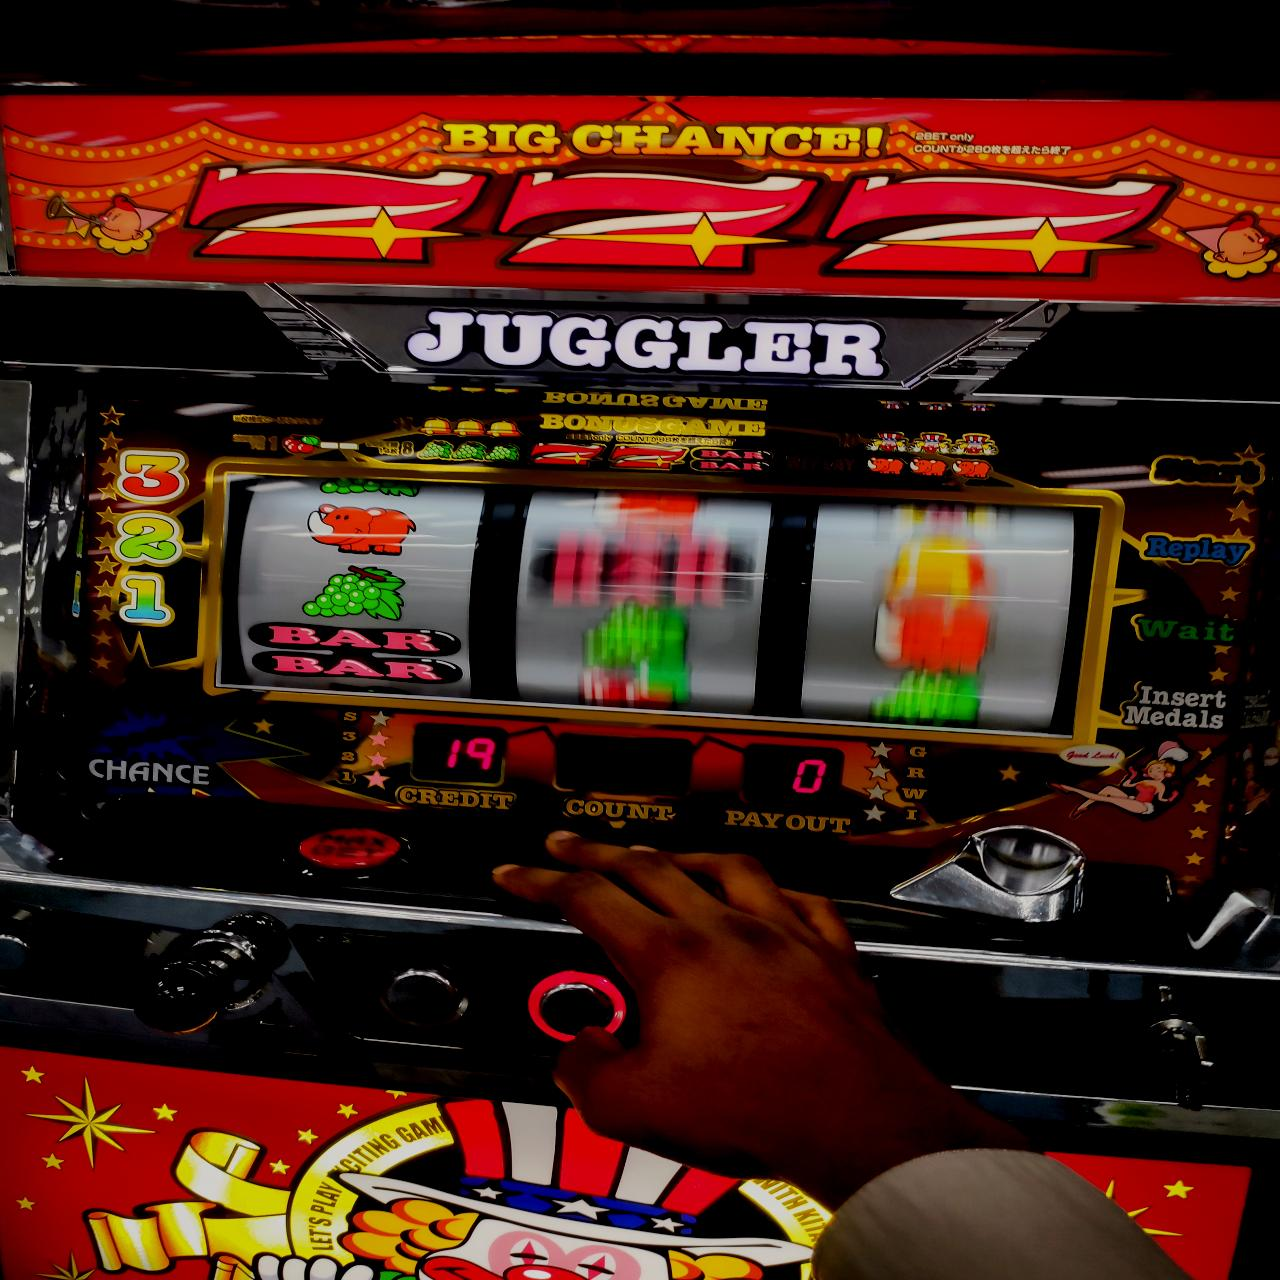8: (302, 502, 418, 554)
bar: (252, 624, 465, 685)
grape: (304, 564, 403, 620)
rhino: (209, 464, 1083, 729)
